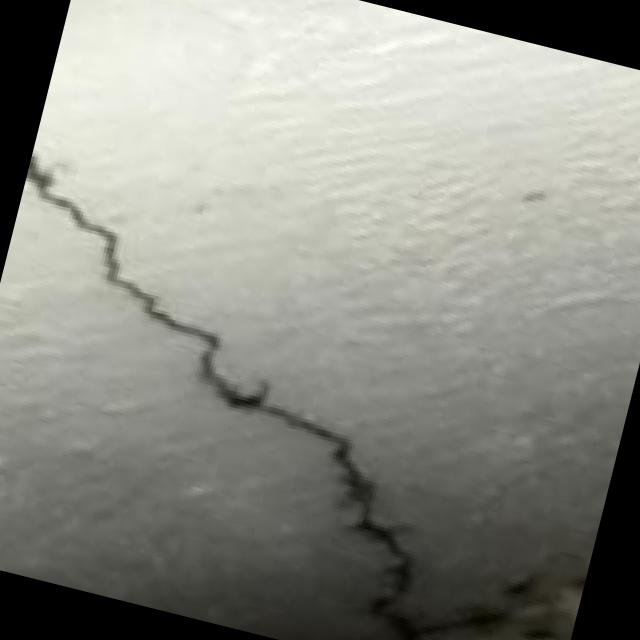crack: (0, 172, 561, 640)
